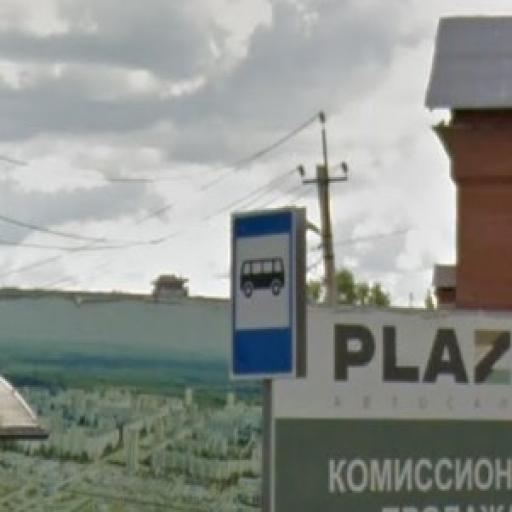traffic_sign: (229, 207, 300, 382)
